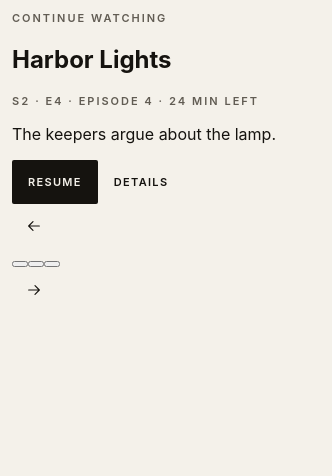
Test case: HomeHero carousel › labels the carousel and its slides, and pips are tabs that change slide
Click the tab named "Quiet Harbour": (36,264) [28,261,44,267]
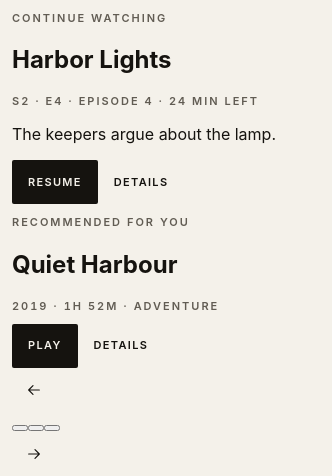
Expected: the text "Recommended for you" is shown, [12,215,190,229]
